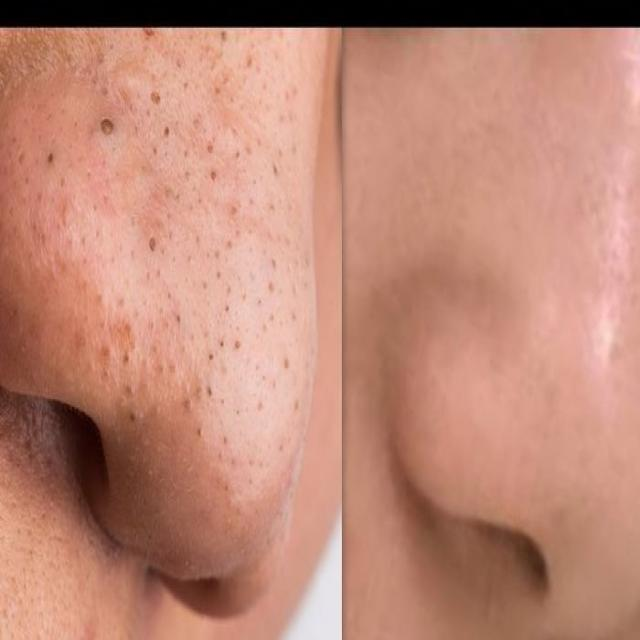Acne: (10, 28, 314, 522)
